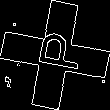P_W: (27, 32, 83, 78)
